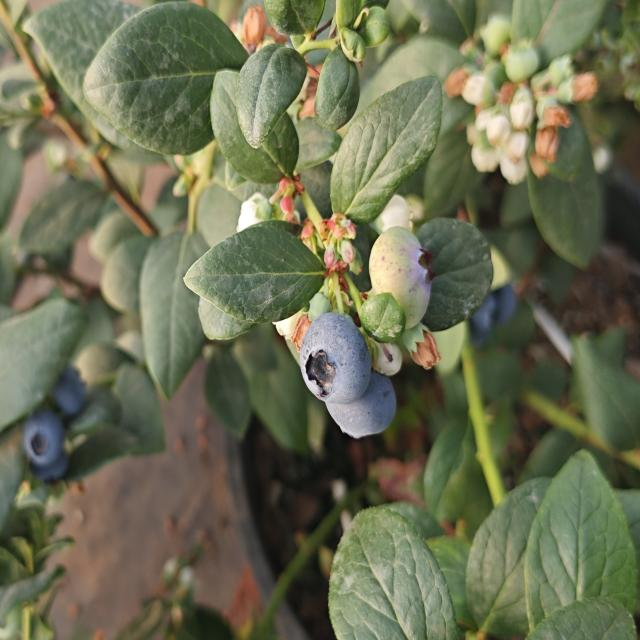ripe: (314, 362, 403, 442), (294, 306, 357, 398), (22, 404, 72, 480), (467, 281, 523, 341), (49, 359, 92, 415)
